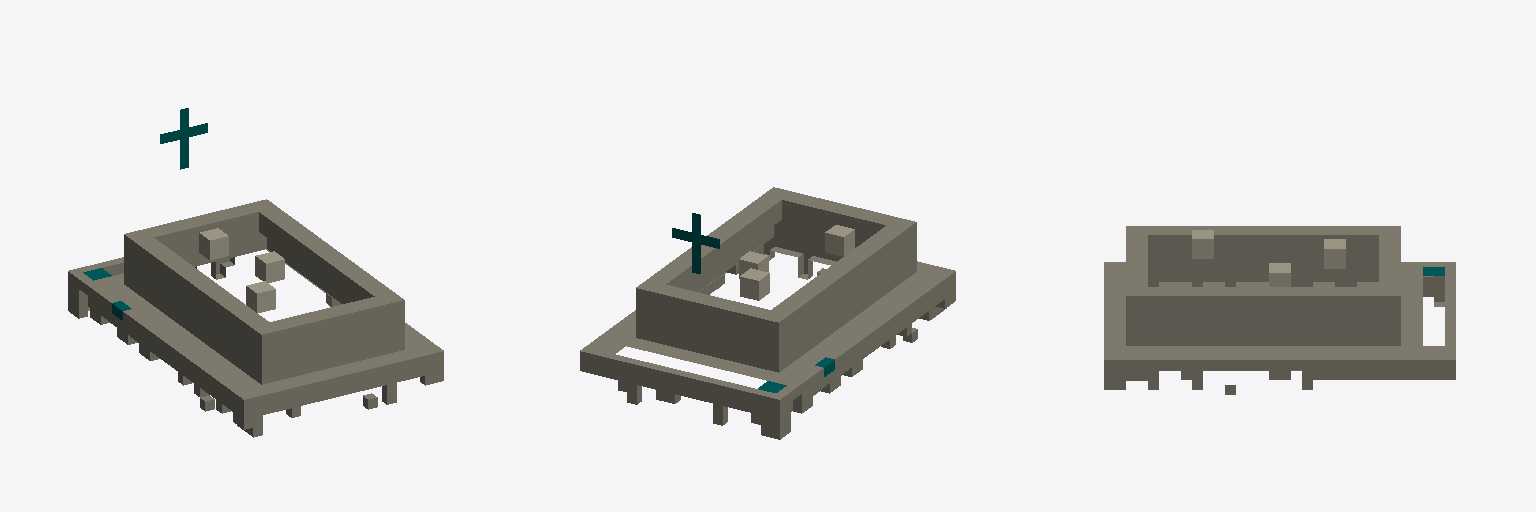
3 renders of one model, left to right at view 1: azimuth 30°, elevation 25°; view 2: azimuth 150°, elevation 25°; view 3: azimuth 270°, elevation 25°, orthographic.
Size of the model in its own units: 21 by 21 by 32.
Materials: 1 (1 with a texture image).